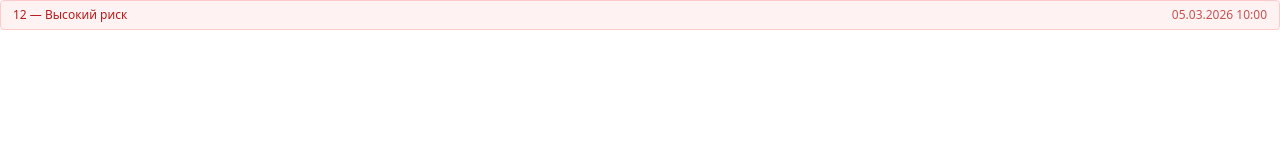
AssessmentHistoryRow › shows who entered it when the date is focused
Focus the text "05.03.2026 10:00": [1219, 14] box [1172,6,1267,23]
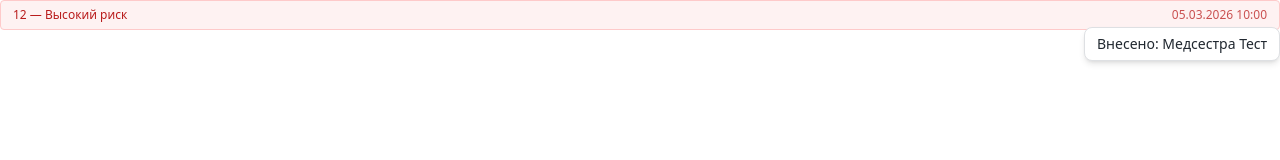
Expected: the tooltip "Внесено: Медсестра Тест" is shown, [1084,27,1279,61]
